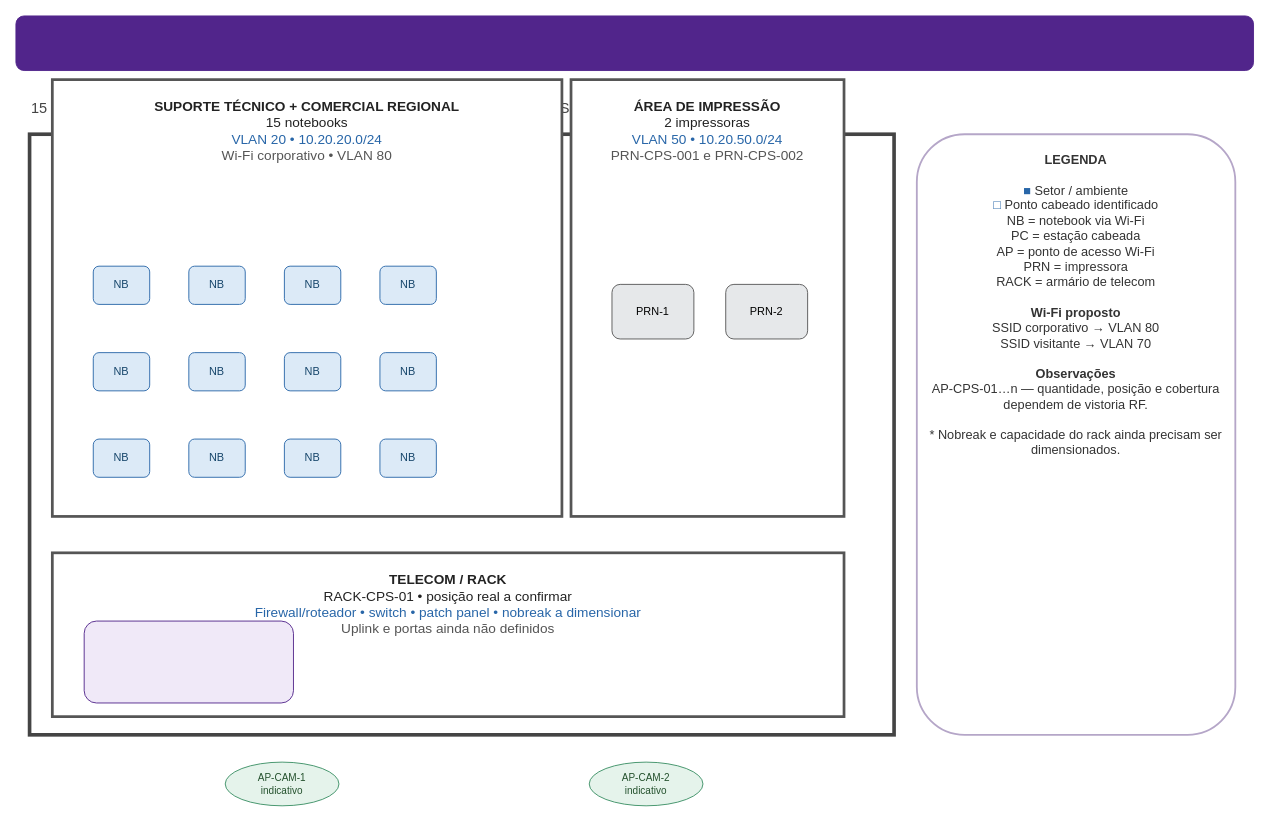
This 1269x822 diagram has some shape labels left out. The centre of each missing label's shape, as x and y in pixels:
"ETAPA 1 — PLANTA DE REDE | FILIAL CAMPINAS" belongs at (x=634, y=43).
"RACK Firewall / Router Switch Patch panel Nobreak*" belongs at (x=188, y=661).
